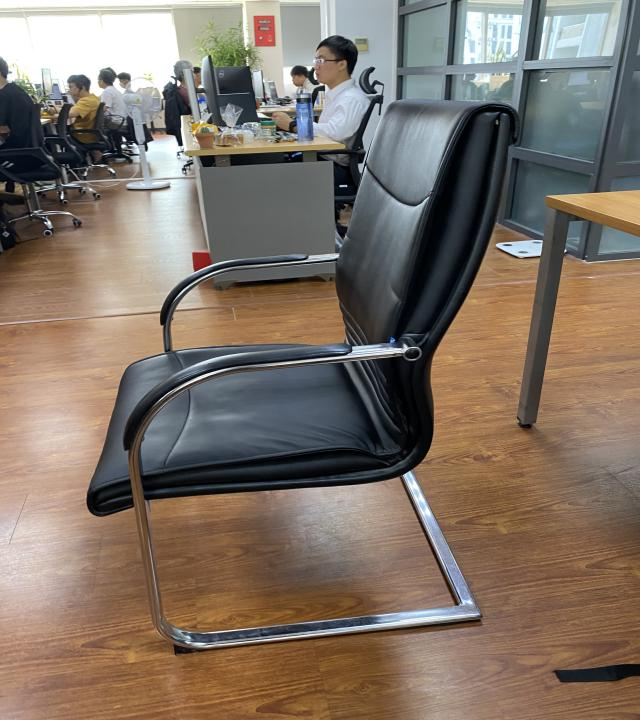SS_03: (80, 99, 523, 656)
